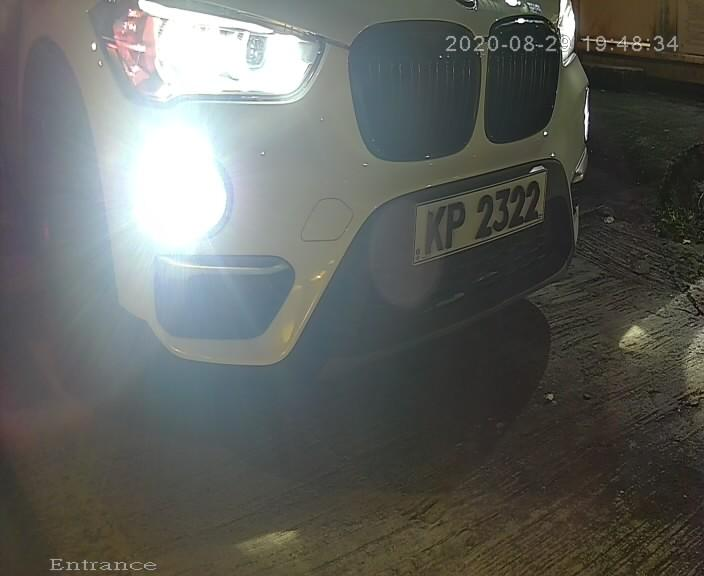License Plate: (406, 163, 544, 273)
